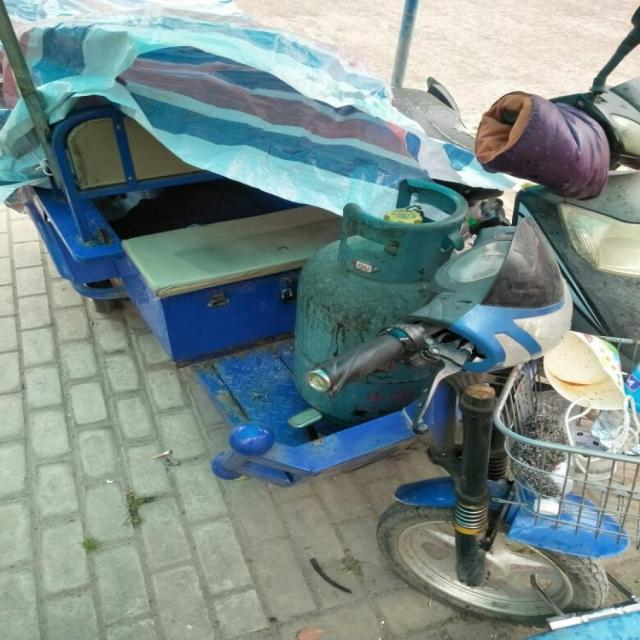motorbike: (505, 9, 639, 338)
tricycle: (1, 102, 639, 636)
